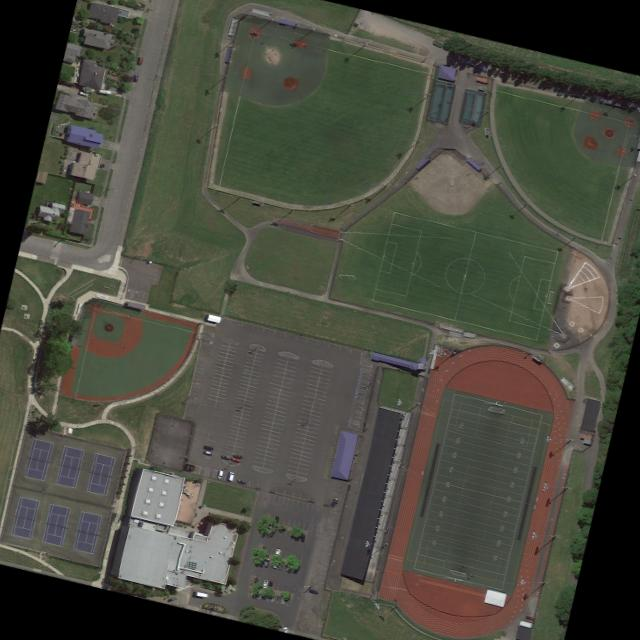small-vehicle: (194, 591, 208, 598), (226, 470, 234, 482), (216, 469, 223, 480), (236, 478, 247, 485), (77, 90, 88, 97), (262, 579, 269, 589), (203, 445, 214, 451), (274, 548, 281, 557), (263, 558, 270, 567), (136, 56, 143, 65), (230, 456, 240, 462), (232, 453, 242, 459), (221, 454, 231, 460), (132, 73, 138, 83), (203, 449, 212, 455)
